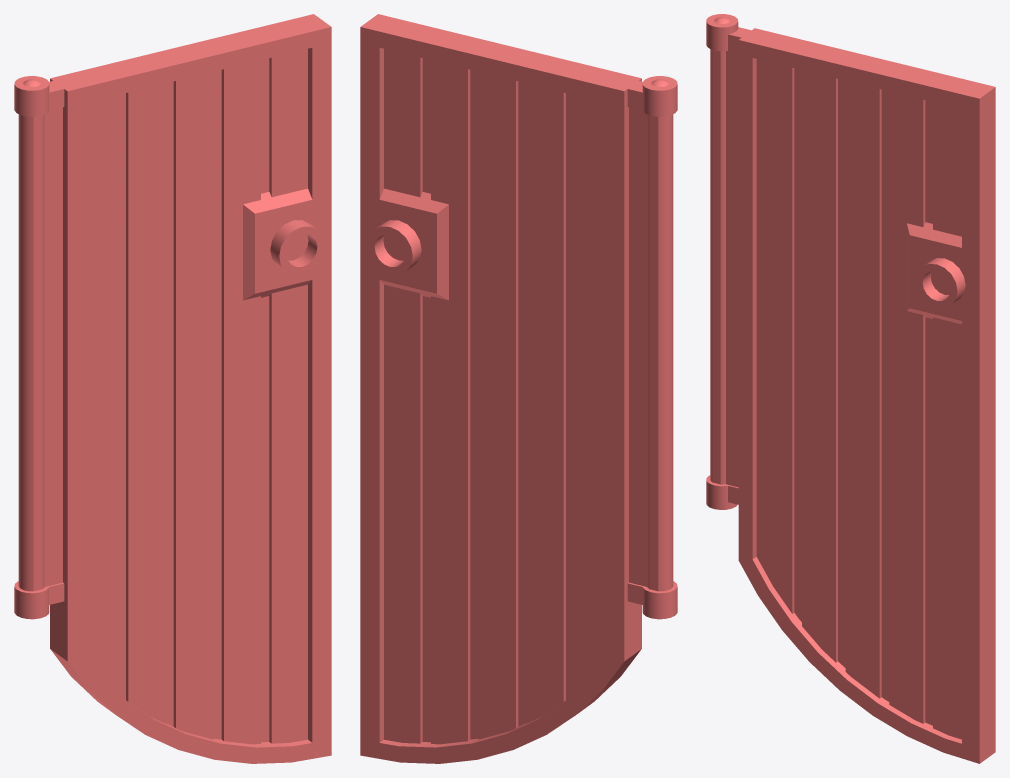
3 views of the same model, side by side, from view 1: azimuth 30°, elevation 25°; view 2: azimuth 150°, elevation 25°; view 3: azimuth 330°, elevation 25° (orthographic). The views are drawn at different scales.
Parts seen in each view (by area): view 1: LDrawPart; view 2: LDrawPart; view 3: LDrawPart.
Boxes of the visible parts, left/top/right/bottom form: LDrawPart: left=14, top=14, right=331, bottom=763; LDrawPart: left=360, top=14, right=677, bottom=763; LDrawPart: left=706, top=14, right=995, bottom=763.
Bounding box in the file's own units: 0.56 × 1.29 × 0.112.
